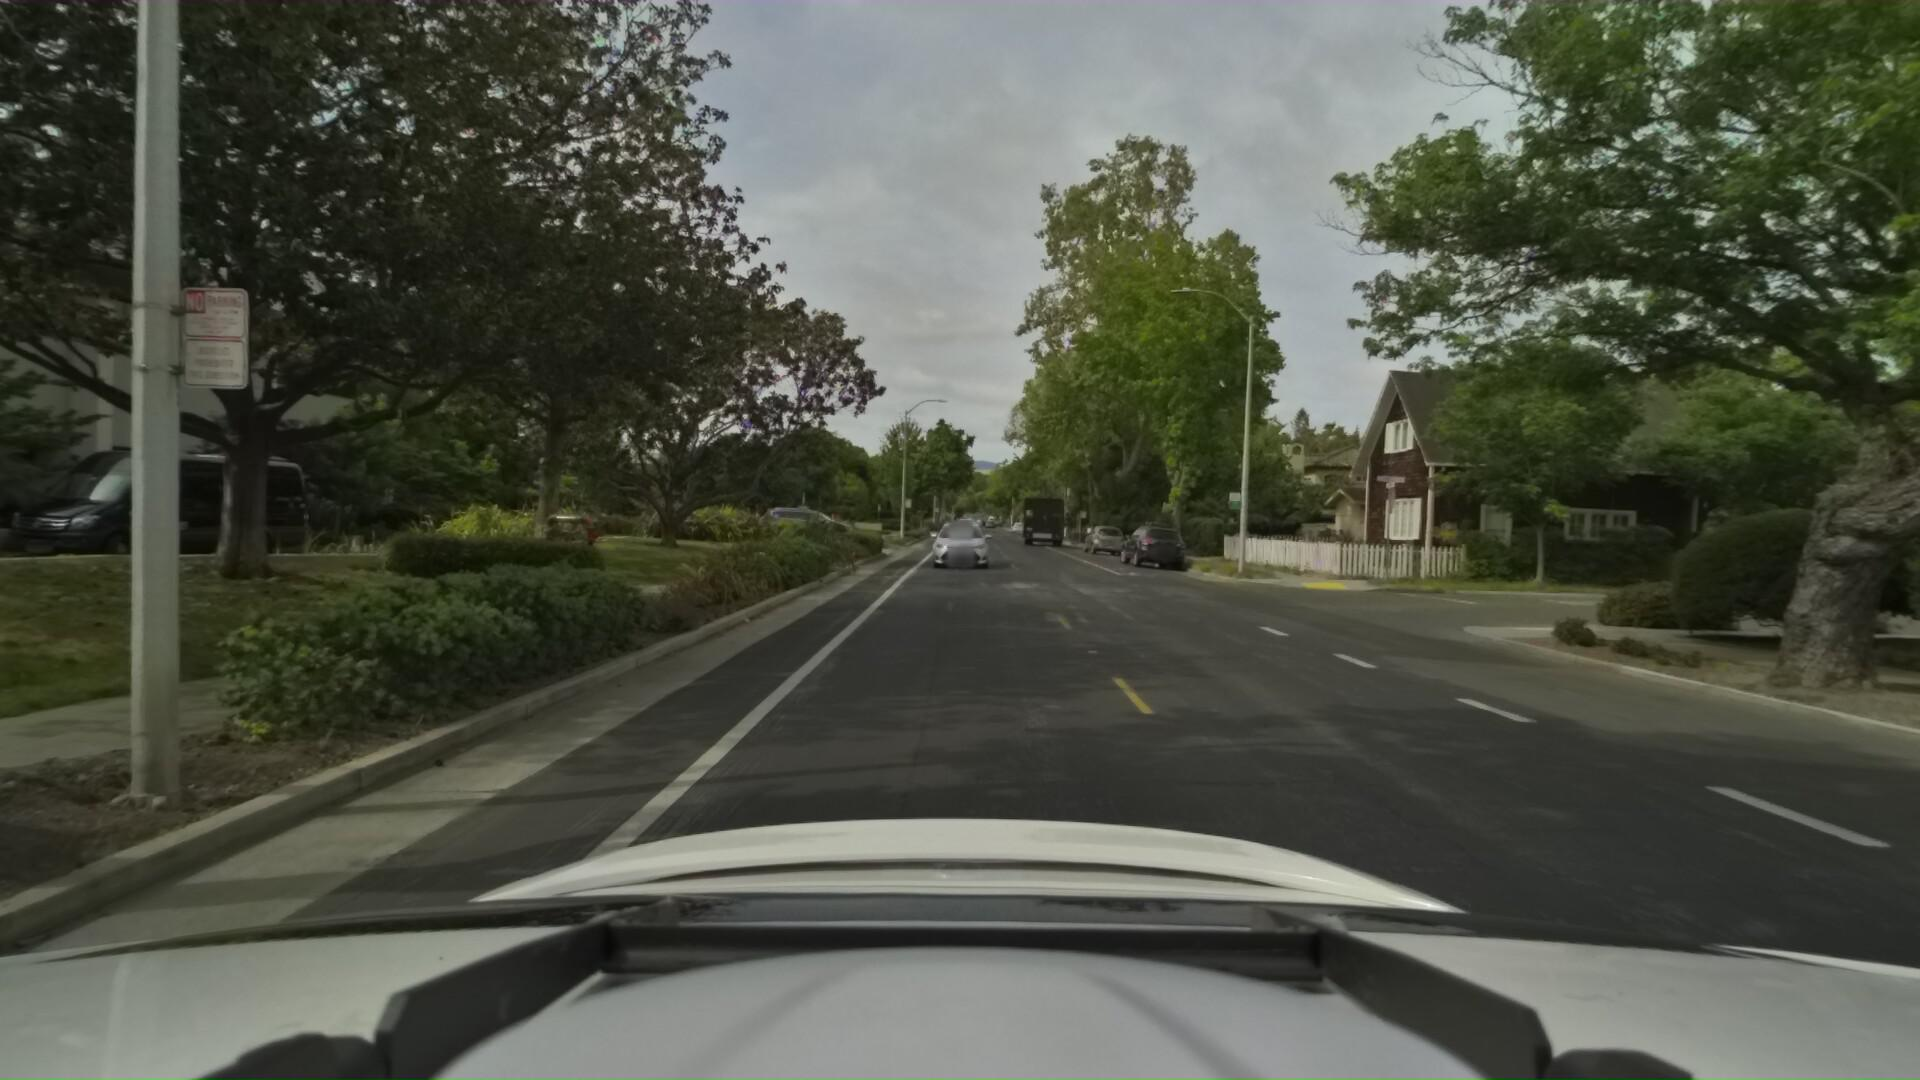car: (0, 435, 334, 572), (1112, 518, 1189, 570), (924, 517, 988, 568), (761, 506, 853, 541), (1077, 522, 1126, 555)
truck: (1019, 493, 1065, 545)
